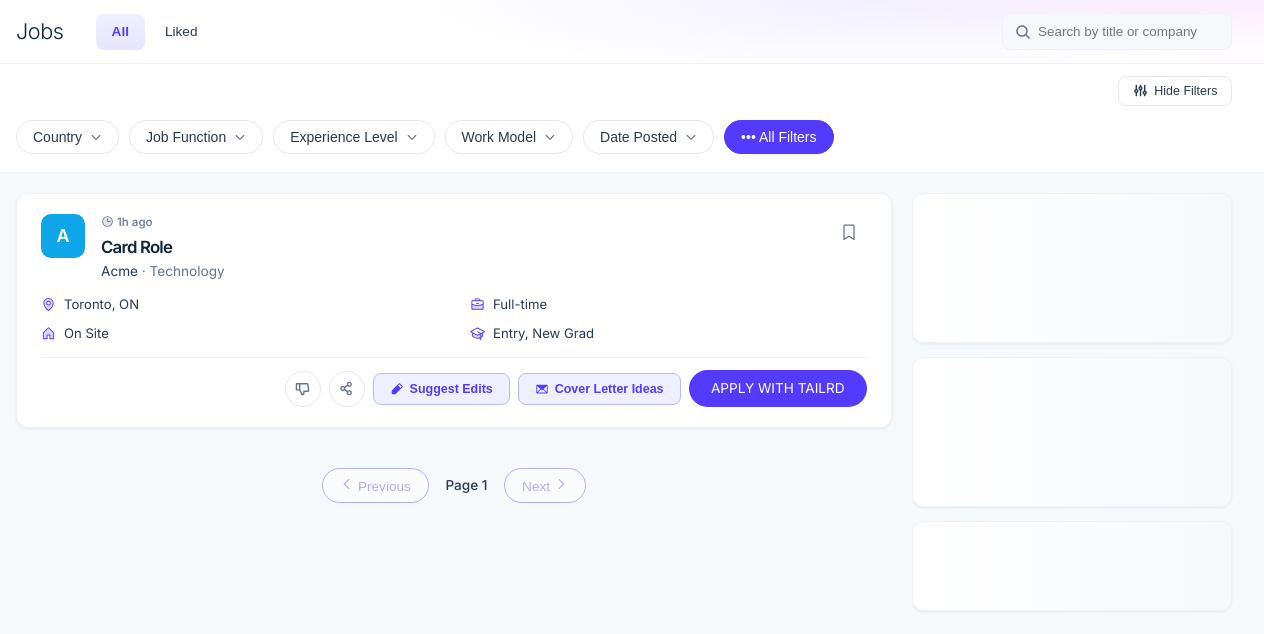
it: Apply checks the listing before opening it › waits on the detail panel's pending check before opening its Apply link
Step 1. Click the heading "Card Role" → (137, 247), box left=101, top=237, right=172, bottom=257
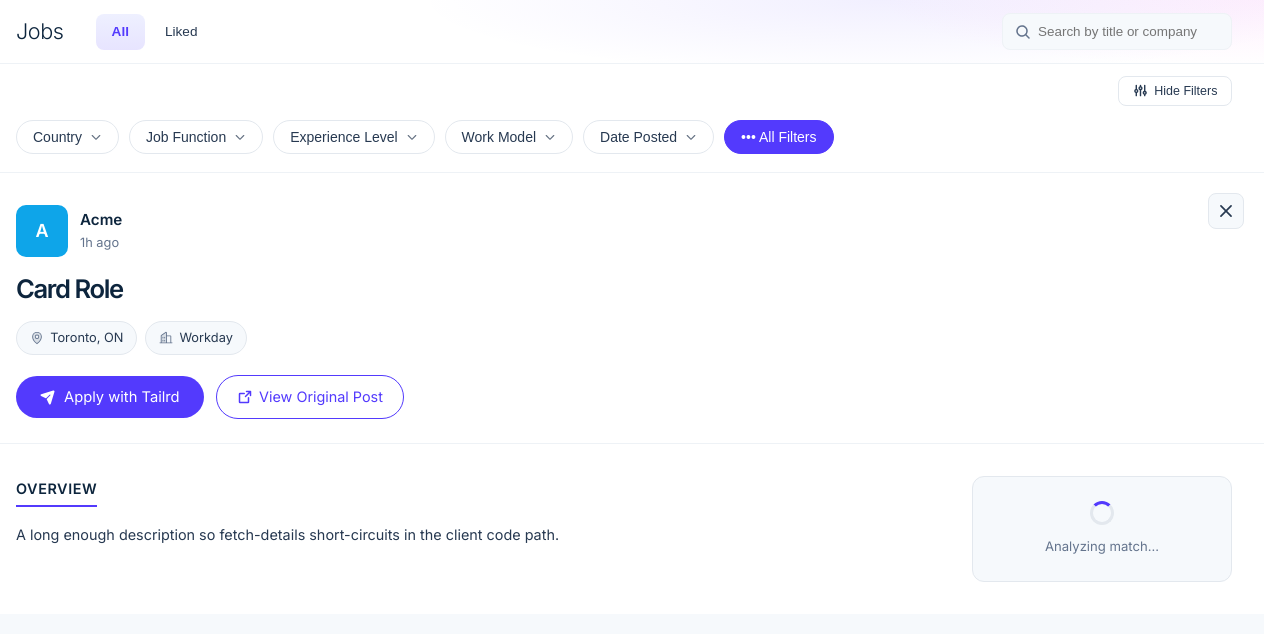
Step 2. Click the link with class "btn-apply-detail" → (110, 397), box left=16, top=376, right=204, bottom=418
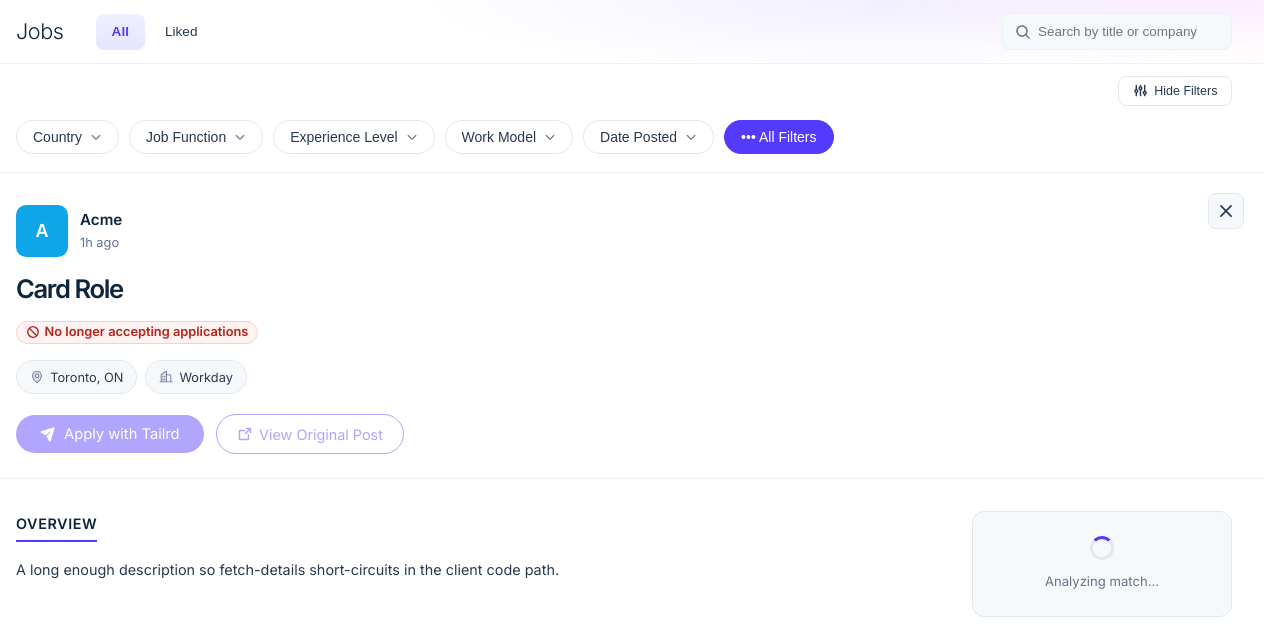
Expected: the button with class "btn-apply-detail" is disabled, left=16, top=415, right=204, bottom=453
Expected: the message "No longer accepting applications" is shown, left=16, top=321, right=258, bottom=344
